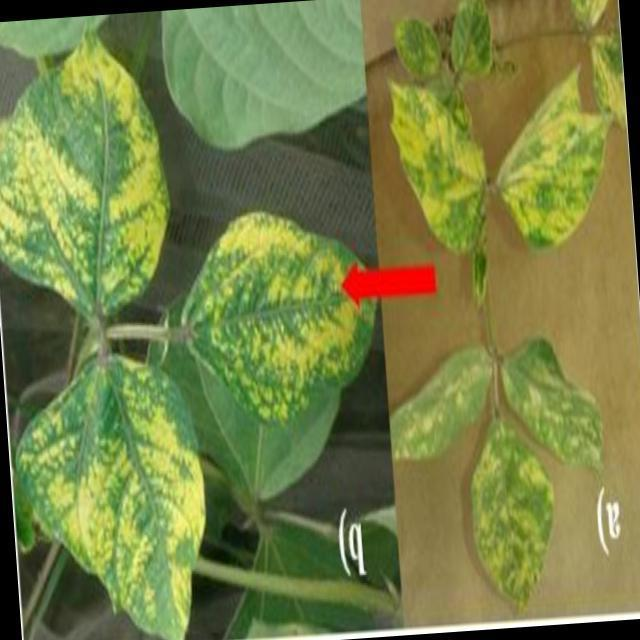Mosaic Virus: (16, 378, 207, 640), (0, 38, 171, 327), (177, 218, 351, 424), (465, 428, 566, 616), (500, 105, 614, 248), (390, 84, 490, 243), (501, 360, 613, 498), (384, 356, 494, 468)
